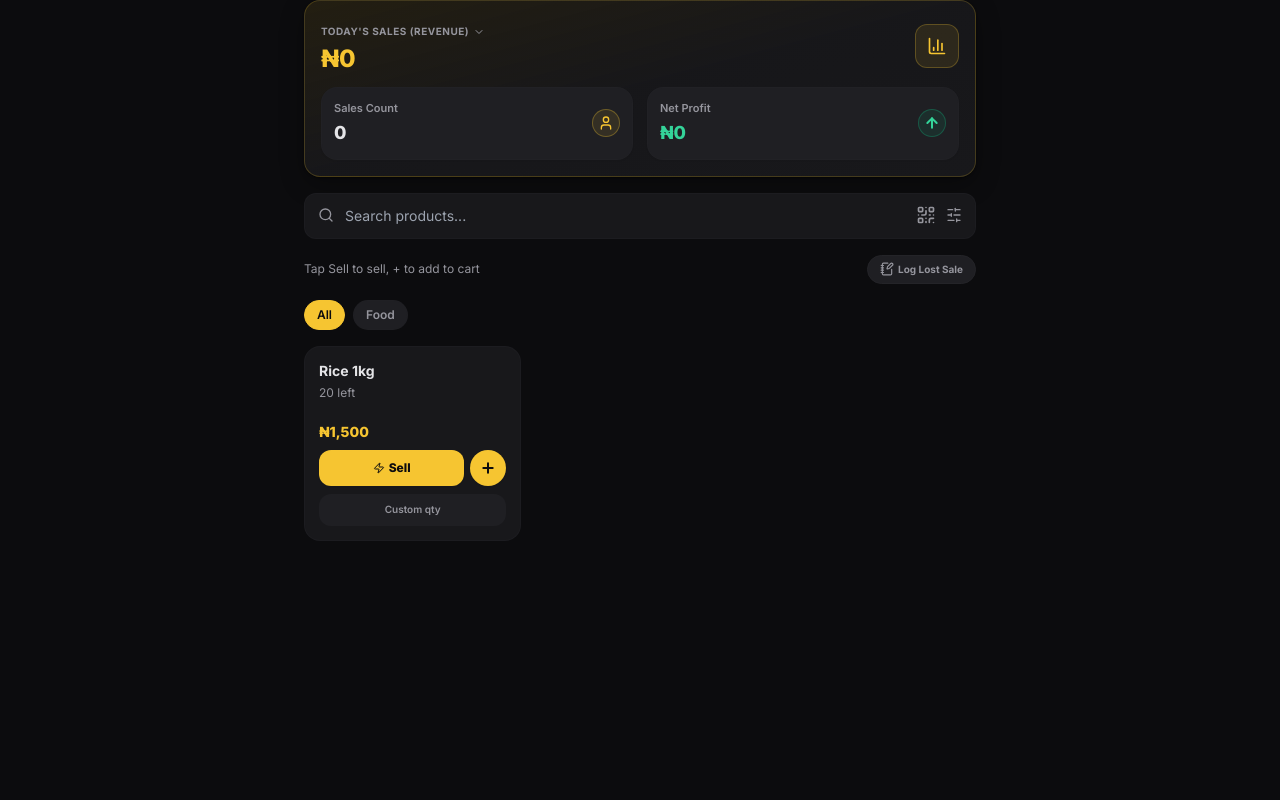
Test case: the checkout line › does not call a product sold one way a carton
Click the button with aria-label "Instant sell". click: (392, 468)
box: left=319, top=450, right=464, bottom=486
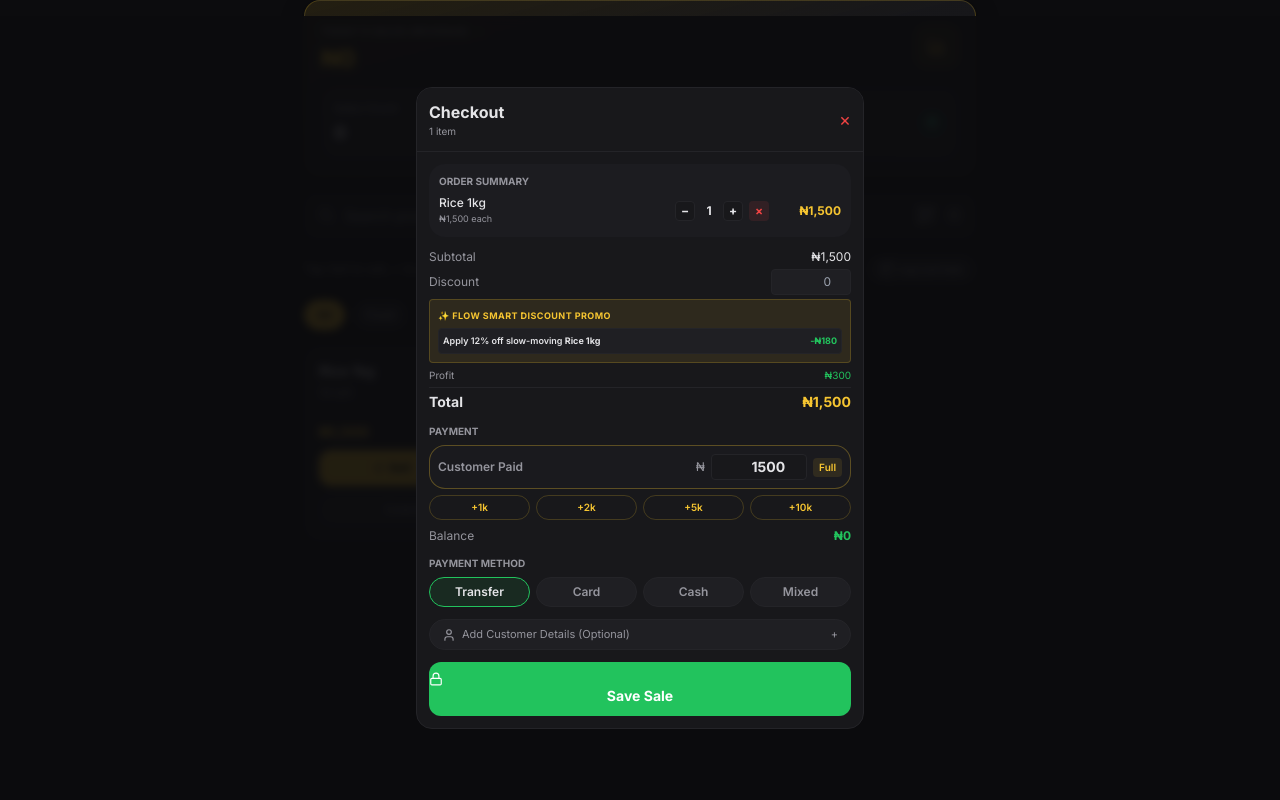
Expected: the text "Rice 1kg" below "Order Summary" is shown, left=439, top=195, right=486, bottom=210
